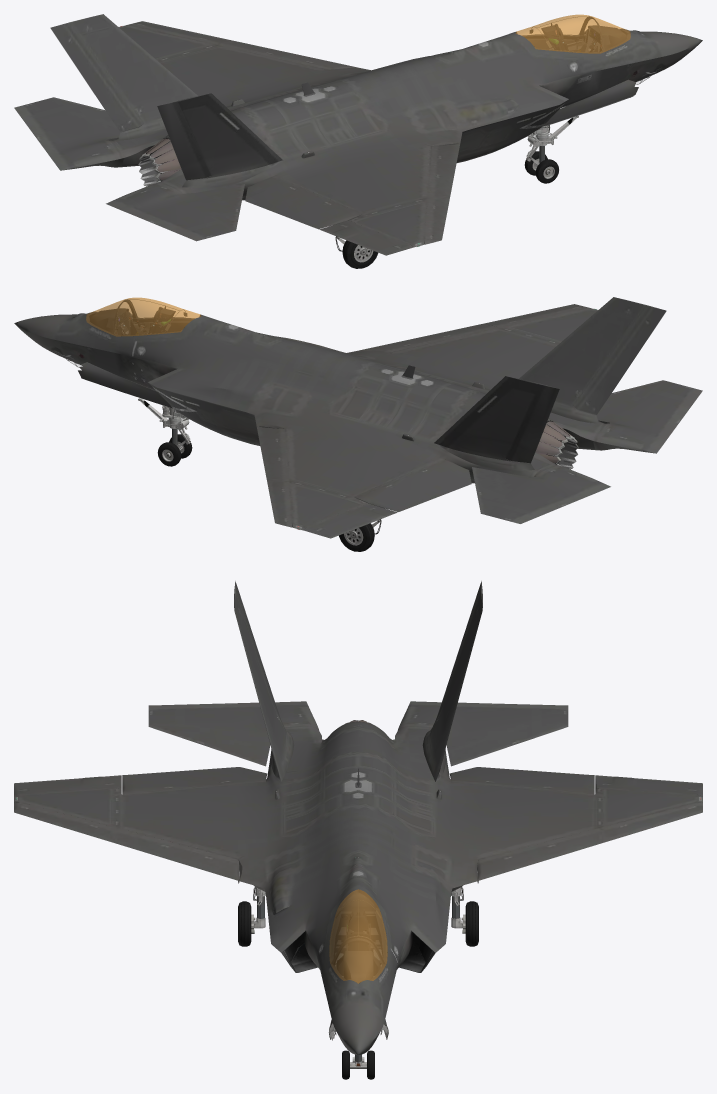
File: f35-tex-transformed.glb
3 views of the same model, one above another, from view 1: azimuth 30°, elevation 25°; view 2: azimuth 150°, elevation 25°; view 3: azimuth 270°, elevation 25° (orthographic). The views are drawn at different scales.
Visible parts, largest first — view 1: Object_4, Object_6; view 2: Object_4, Object_6; view 3: Object_4, Object_6.
Boxes of the visible parts, x1=… form: Object_4: x1=14, y1=14, x2=702, y2=268; Object_6: x1=515, y1=14, x2=630, y2=53; Object_4: x1=14, y1=297, x2=702, y2=551; Object_6: x1=86, y1=297, x2=201, y2=336; Object_4: x1=14, y1=581, x2=702, y2=1079; Object_6: x1=329, y1=889, x2=387, y2=983.
Size of the model in its own units: 157 by 53.2 by 132.
4 materials, 1 textured.
